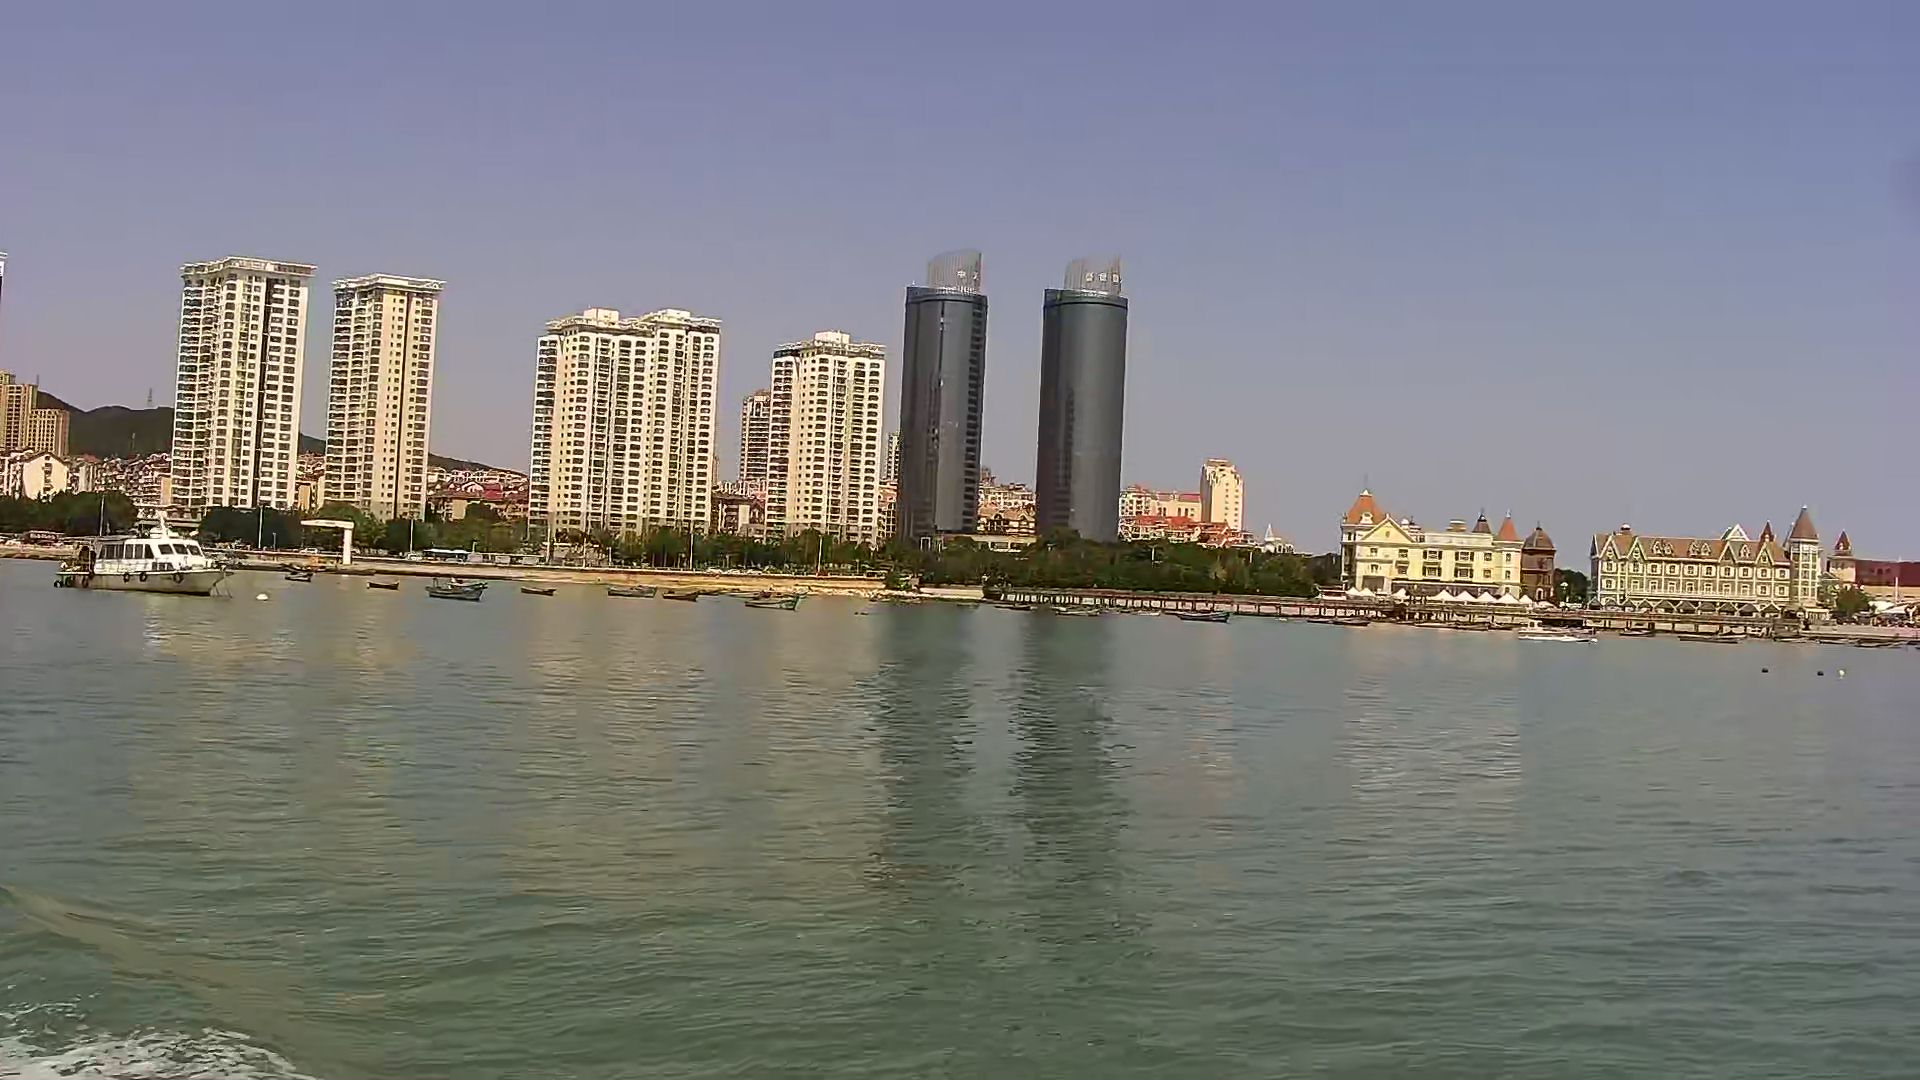ball: (255, 589, 270, 605)
boat: (423, 578, 488, 605), (736, 591, 806, 613), (604, 585, 662, 601), (521, 583, 559, 603), (363, 578, 404, 595)
ship: (55, 508, 240, 595)
